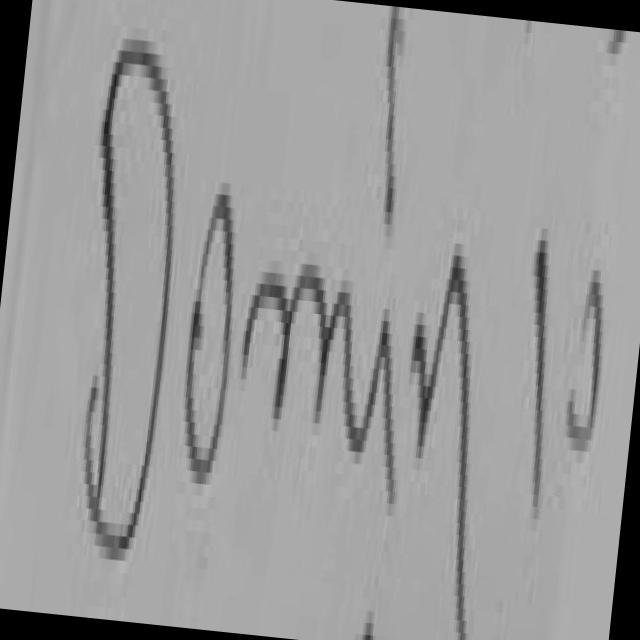0: (550, 223, 623, 558)
1: (496, 166, 586, 574)
D: (40, 0, 214, 593)
i: (339, 63, 435, 545)
m: (222, 205, 374, 535)
n: (381, 150, 508, 579)
o: (166, 161, 258, 505)
